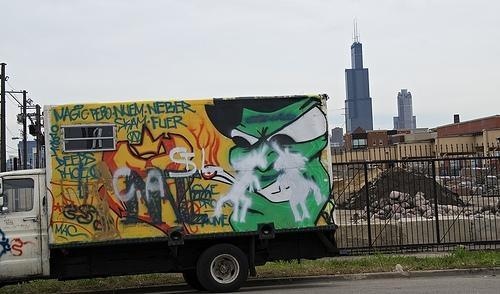truck: (0, 95, 338, 288)
